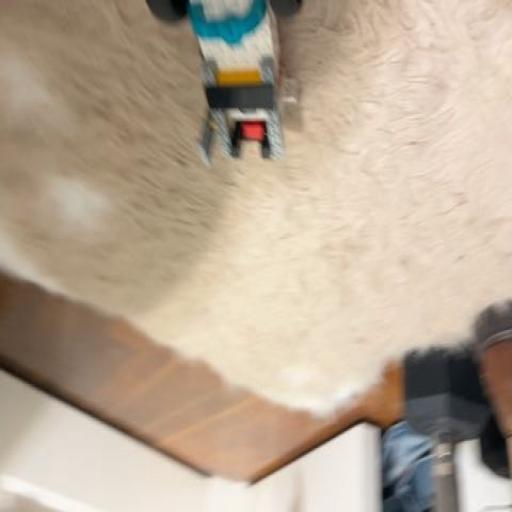Opponent: (145, 0, 304, 175)
